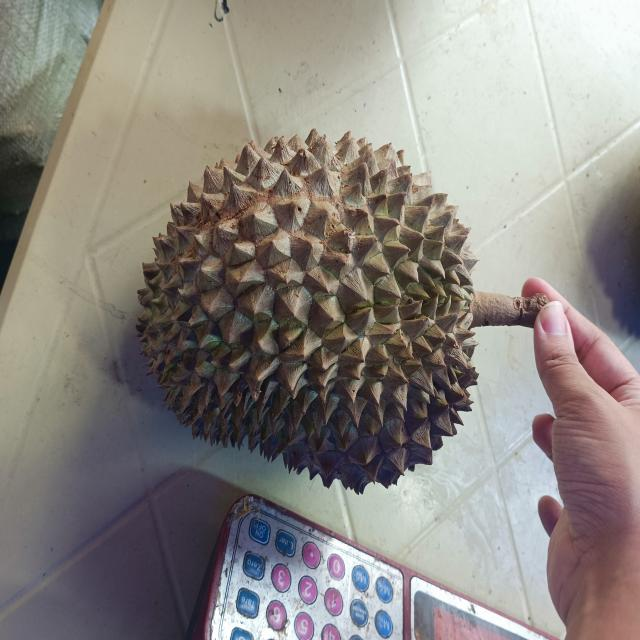mature: (136, 130, 549, 492)
